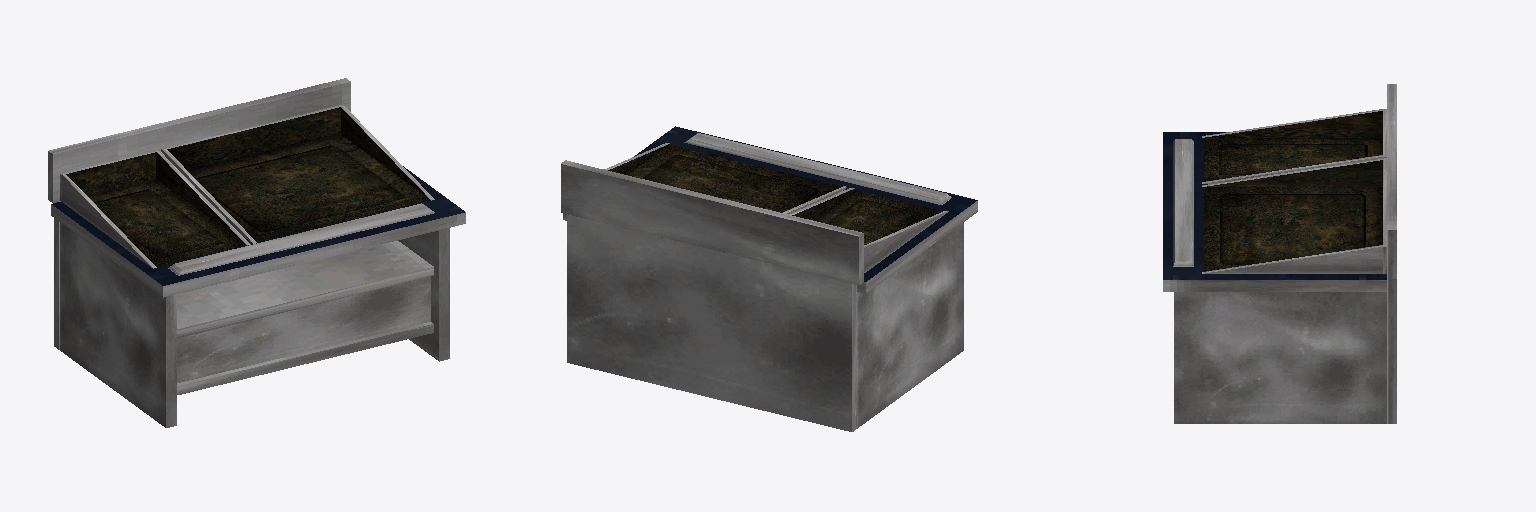
3 views of the same model, side by side, from view 1: azimuth 30°, elevation 25°; view 2: azimuth 150°, elevation 25°; view 3: azimuth 270°, elevation 25° (orthographic).
Visible parts, largest first — view 1: pasted__pasted__pasted__pasted__pasted__pasted__pasted__pCube1 p, polySurface6 pasted__pasted__pasted__pasted__pasted__pasted__pas; view 2: pasted__pasted__pasted__pasted__pasted__pasted__pasted__pCube1 p, polySurface6 pasted__pasted__pasted__pasted__pasted__pasted__pas; view 3: pasted__pasted__pasted__pasted__pasted__pasted__pasted__pCube1 p, polySurface6 pasted__pasted__pasted__pasted__pasted__pasted__pas.
Boxes of the visible parts, box(x1,y1,x2,y2) form: pasted__pasted__pasted__pasted__pasted__pasted__pasted__pCube1 p: box(48, 78, 465, 427); polySurface6 pasted__pasted__pasted__pasted__pasted__pasted__pas: box(341, 106, 434, 200); pasted__pasted__pasted__pasted__pasted__pasted__pasted__pCube1 p: box(561, 126, 977, 431); polySurface6 pasted__pasted__pasted__pasted__pasted__pasted__pas: box(604, 143, 669, 174); pasted__pasted__pasted__pasted__pasted__pasted__pasted__pCube1 p: box(1163, 84, 1396, 423); polySurface6 pasted__pasted__pasted__pasted__pasted__pasted__pas: box(1202, 245, 1383, 273).
Size of the model in its own units: 2.08 by 1.3 by 1.4.
3 materials, 3 textured.